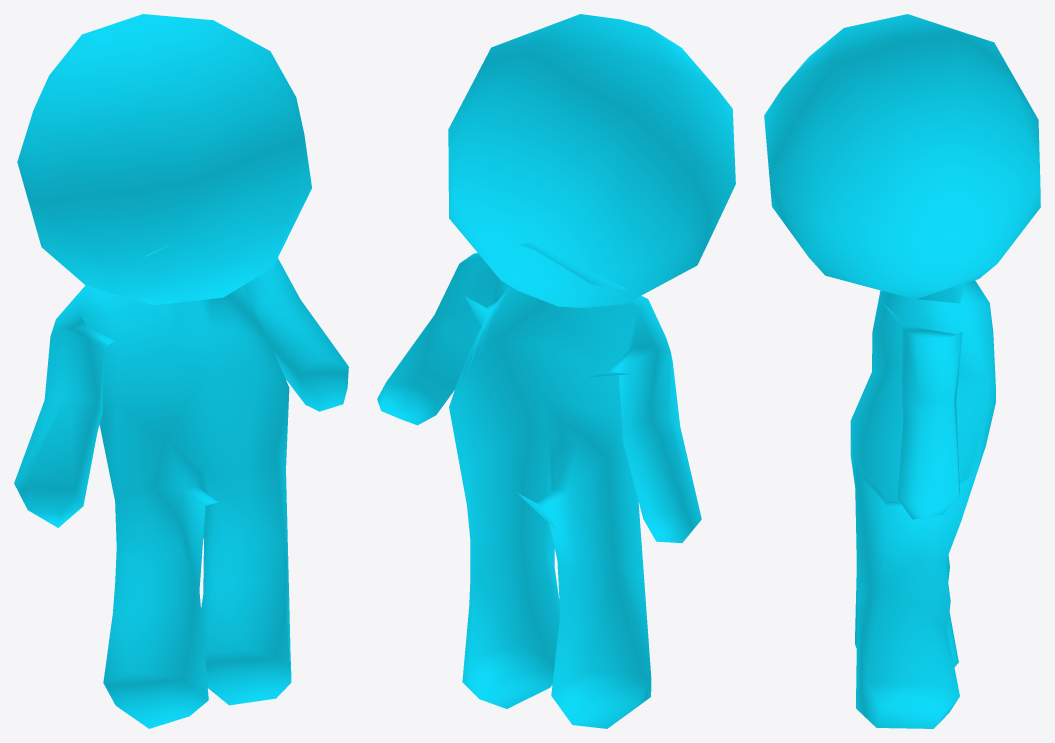
The model's file is ps2_save-icons_newroommania.glb.
3 renders of one model, left to right at view 1: azimuth 30°, elevation 25°; view 2: azimuth 150°, elevation 25°; view 3: azimuth 270°, elevation 25°, orthographic. The views are drawn at different scales.
Visible parts, largest first — view 1: ROOM2.ICO; view 2: ROOM2.ICO; view 3: ROOM2.ICO.
Boxes of the visible parts, left/top/right/bottom form: ROOM2.ICO: left=14, top=14, right=348, bottom=728; ROOM2.ICO: left=377, top=14, right=735, bottom=728; ROOM2.ICO: left=764, top=14, right=1040, bottom=728.
Bounding box in the file's own units: 1.78 × 3.63 × 1.39.
Materials: 1 (1 with a texture image).
